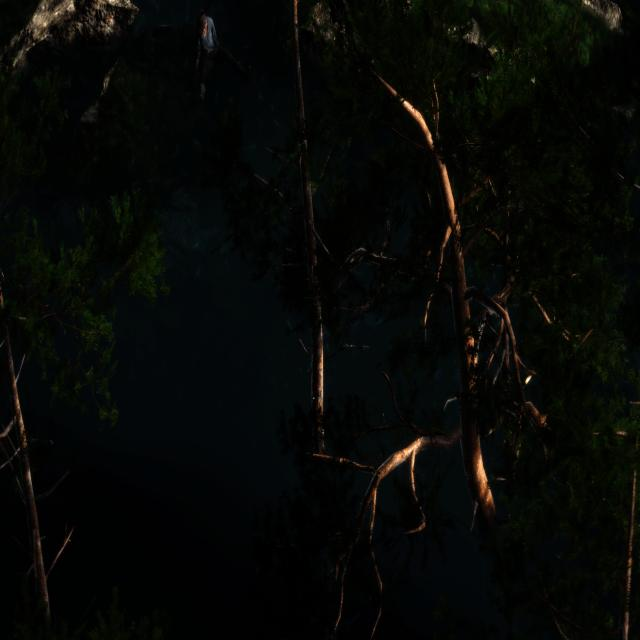Human: (193, 4, 257, 115)
